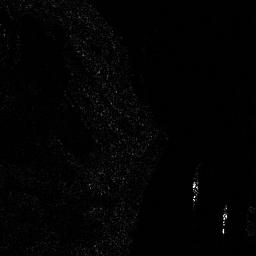ship: (190, 175, 199, 202), (221, 205, 229, 234)
